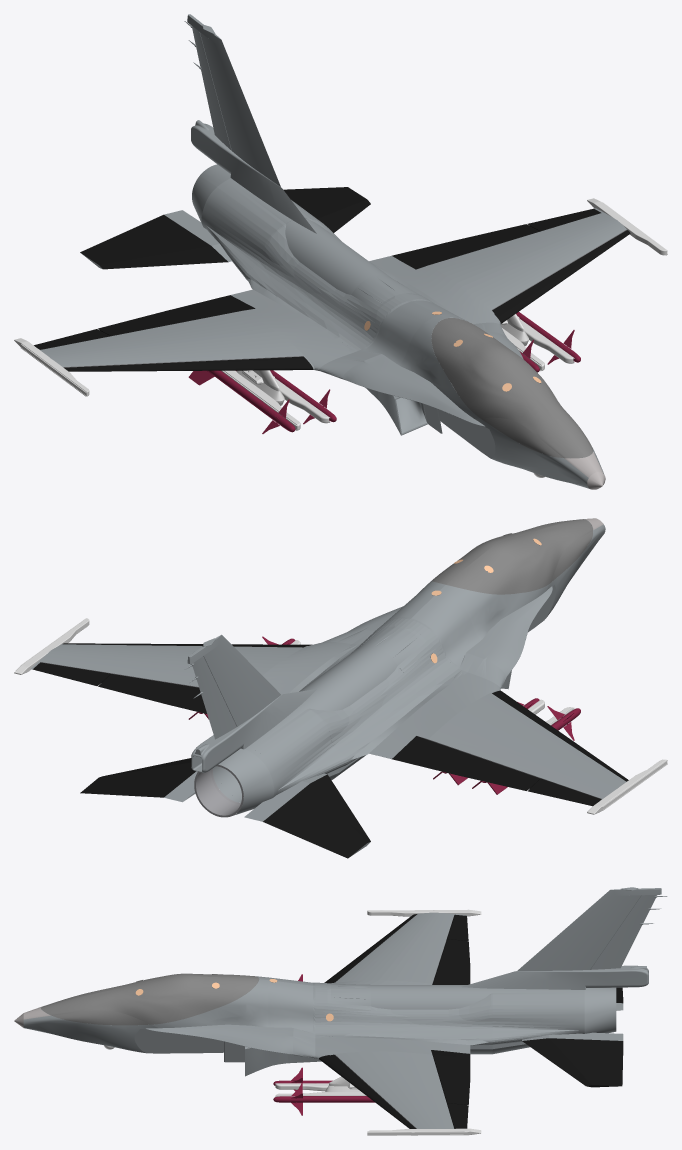
File: qf01full.glb
3 renders of one model, top to bottom at view 1: azimuth 30°, elevation 25°; view 2: azimuth 150°, elevation 25°; view 3: azimuth 270°, elevation 25°, orthographic. The views are drawn at different scales.
Bounding box in the file's own units: 10.11 × 3.55 × 12.56.
